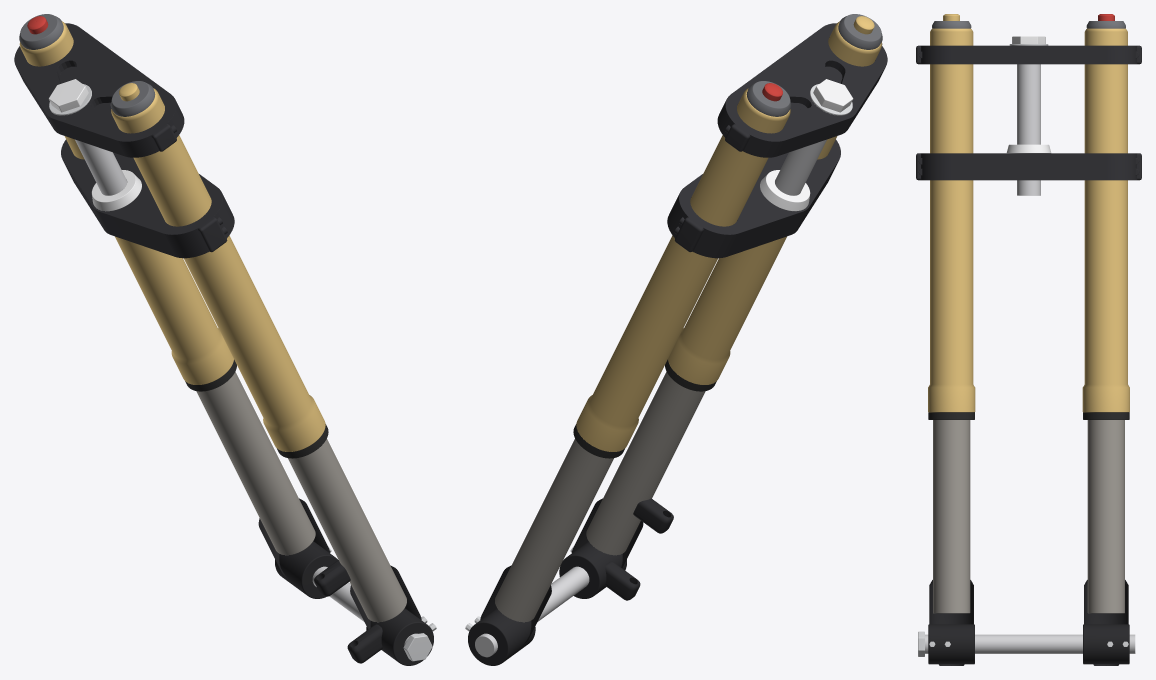
The model's file is forks_usd.glb.
The picture shows the model from 3 angles, left to right: view 1: azimuth 30°, elevation 25°; view 2: azimuth 150°, elevation 25°; view 3: azimuth 270°, elevation 25°; orthographic projection. The views are drawn at different scales.
Parts seen in each view (by area): view 1: forks_usd__left_outer_tube, forks_usd__top_triple_clamp, forks_usd__right_outer_tube, forks_usd__right_inner_tube, forks_usd__left_inner_tube, forks_usd__lower_triple_clamp, forks_usd__left_axle_foot, forks_usd__right_axle_foot, forks_usd__steering_stem, forks_usd__head_bearing, forks_usd__right_fork_cap, forks_usd__left_fork_cap (+3 smaller); view 2: forks_usd__right_outer_tube, forks_usd__top_triple_clamp, forks_usd__left_outer_tube, forks_usd__right_inner_tube, forks_usd__left_inner_tube, forks_usd__lower_triple_clamp, forks_usd__left_axle_foot, forks_usd__right_axle_foot, forks_usd__axle, forks_usd__steering_stem, forks_usd__head_bearing, forks_usd__left_fork_cap (+2 smaller); view 3: forks_usd__left_outer_tube, forks_usd__right_outer_tube, forks_usd__left_inner_tube, forks_usd__right_inner_tube, forks_usd__lower_triple_clamp, forks_usd__top_triple_clamp, forks_usd__left_axle_foot, forks_usd__right_axle_foot, forks_usd__axle, forks_usd__steering_stem, forks_usd__head_bearing, forks_usd__left_seal_ring (+1 smaller).
Boxes of the visible parts, box(x1,y1,x2,y2) form: forks_usd__left_outer_tube: box(111, 88, 325, 451); forks_usd__top_triple_clamp: box(14, 23, 184, 157); forks_usd__right_outer_tube: box(19, 21, 233, 384); forks_usd__right_inner_tube: box(196, 372, 315, 555); forks_usd__left_inner_tube: box(288, 439, 406, 622); forks_usd__lower_triple_clamp: box(61, 139, 234, 258); forks_usd__left_axle_foot: box(314, 560, 433, 665); forks_usd__right_axle_foot: box(258, 498, 337, 598); forks_usd__steering_stem: box(75, 139, 126, 195); forks_usd__head_bearing: box(91, 170, 141, 211); forks_usd__right_fork_cap: box(19, 14, 63, 49); forks_usd__left_fork_cap: box(110, 81, 155, 116); forks_usd__right_outer_tube: box(576, 88, 790, 451); forks_usd__top_triple_clamp: box(717, 23, 887, 157); forks_usd__left_outer_tube: box(668, 21, 882, 384); forks_usd__right_inner_tube: box(495, 439, 613, 622); forks_usd__left_inner_tube: box(586, 372, 705, 555); forks_usd__lower_triple_clamp: box(667, 139, 840, 258); forks_usd__left_axle_foot: box(559, 498, 673, 600); forks_usd__right_axle_foot: box(468, 565, 551, 665); forks_usd__axle: box(475, 566, 589, 657); forks_usd__steering_stem: box(775, 139, 826, 195); forks_usd__head_bearing: box(760, 170, 810, 211); forks_usd__left_fork_cap: box(838, 14, 882, 49); forks_usd__left_outer_tube: box(928, 28, 975, 412); forks_usd__right_outer_tube: box(1082, 28, 1129, 412); forks_usd__left_inner_tube: box(933, 420, 970, 613); forks_usd__right_inner_tube: box(1087, 420, 1124, 613); forks_usd__lower_triple_clamp: box(916, 153, 1141, 180); forks_usd__top_triple_clamp: box(916, 45, 1141, 64); forks_usd__left_axle_foot: box(928, 580, 974, 665); forks_usd__right_axle_foot: box(1083, 580, 1129, 665); forks_usd__axle: box(925, 634, 1135, 653); forks_usd__steering_stem: box(1017, 64, 1040, 195); forks_usd__head_bearing: box(1006, 144, 1051, 153); forks_usd__left_seal_ring: box(928, 412, 974, 419).
Bounding box in the file's own units: 41.63 × 77.38 × 29.2.
